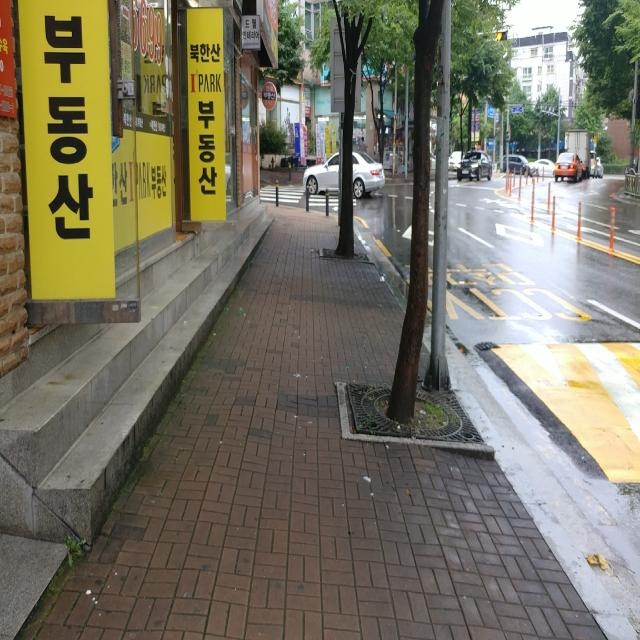횡단보도: (260, 184, 357, 212)
